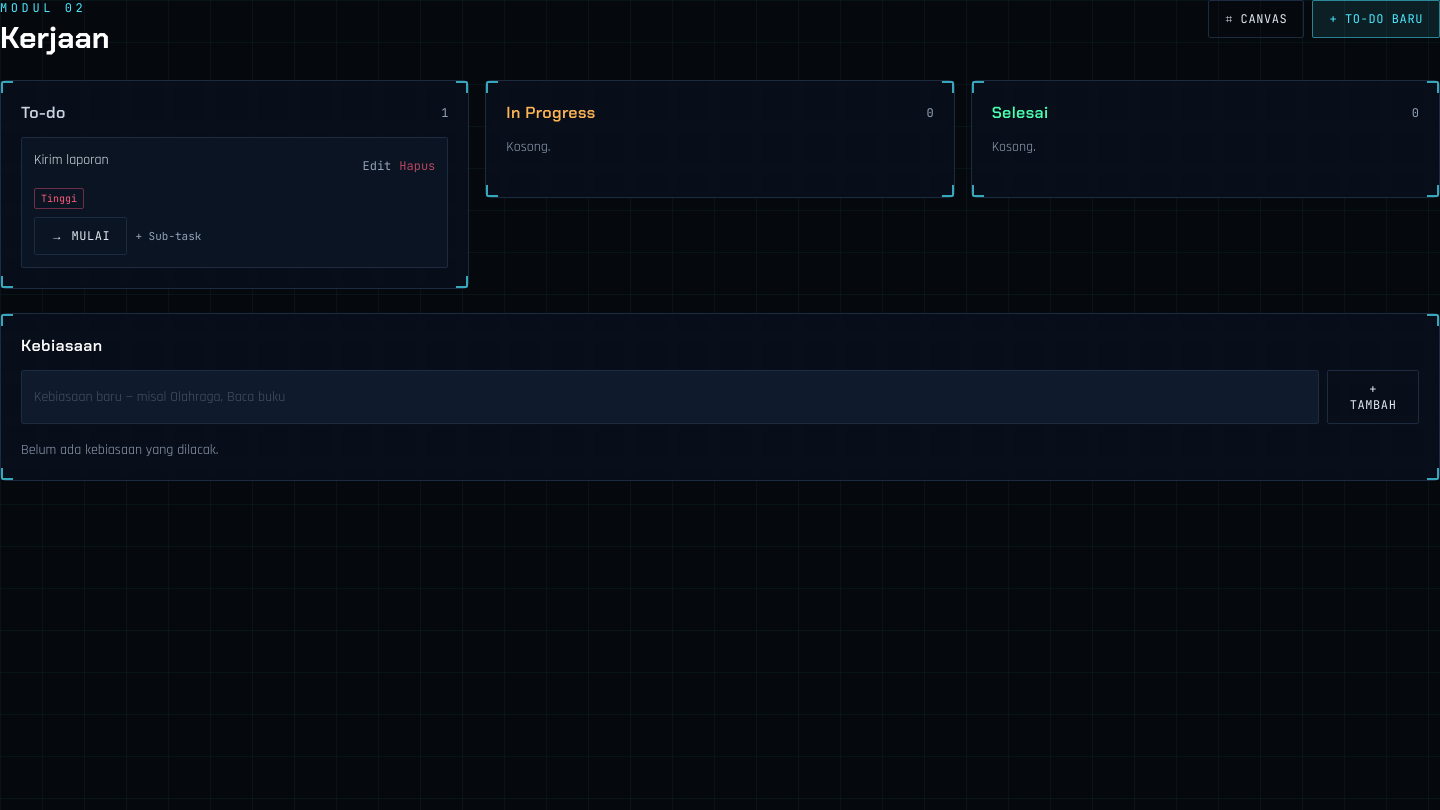
Scenario: KerjaanPage (Kanban) › edits an existing task's title
The width and height of the screenshot is (1440, 810).
Check: the text "Kirim laporan" is shown, box 34,150 -> 109,170
Click the button with aria-label "Edit to-do Kirim laporan" at (377,166), box 362,160 -> 391,172
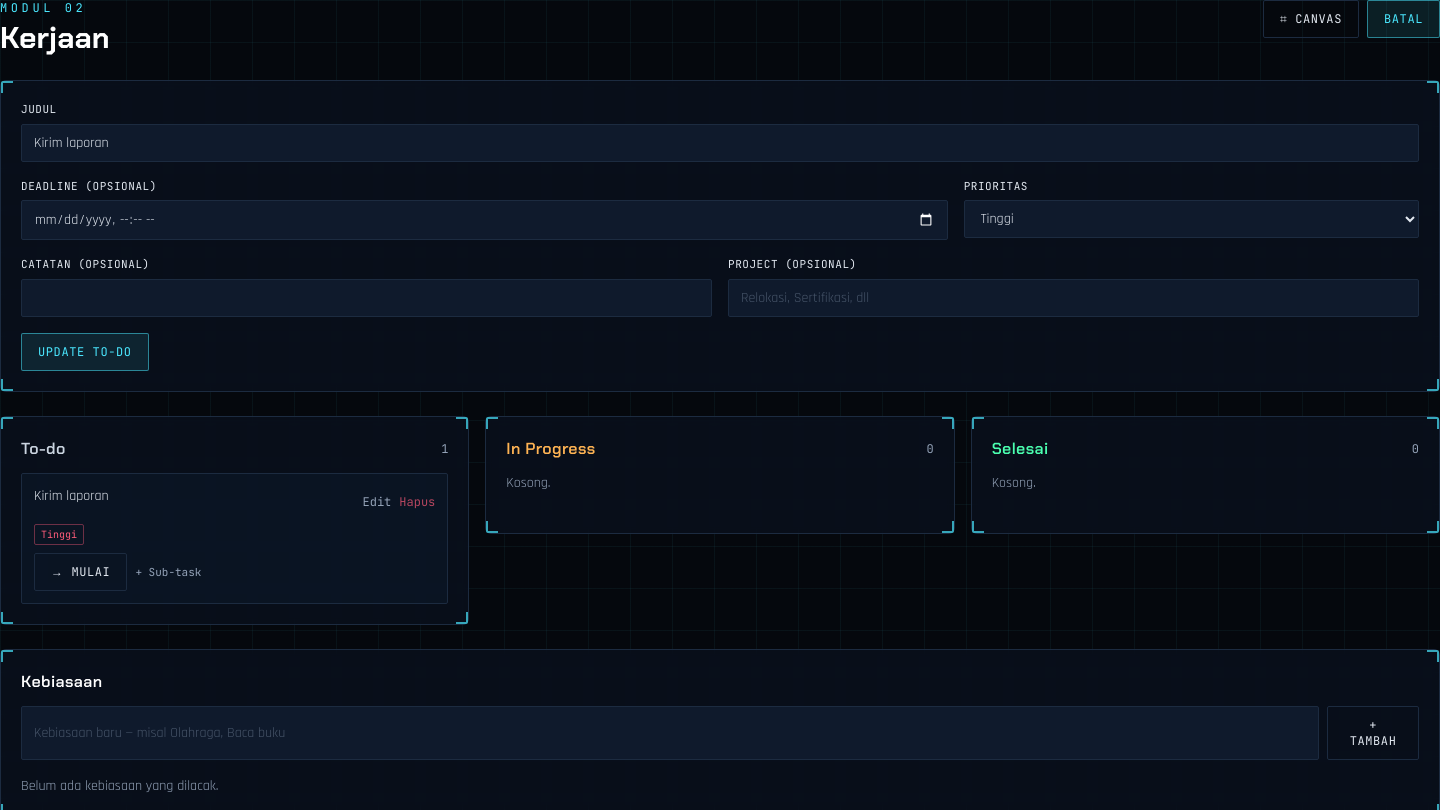
Replace the text in the field showing "Kirim laporan" with "Kirim laporan mingguan" at (720,142), box 21,124 -> 1419,162
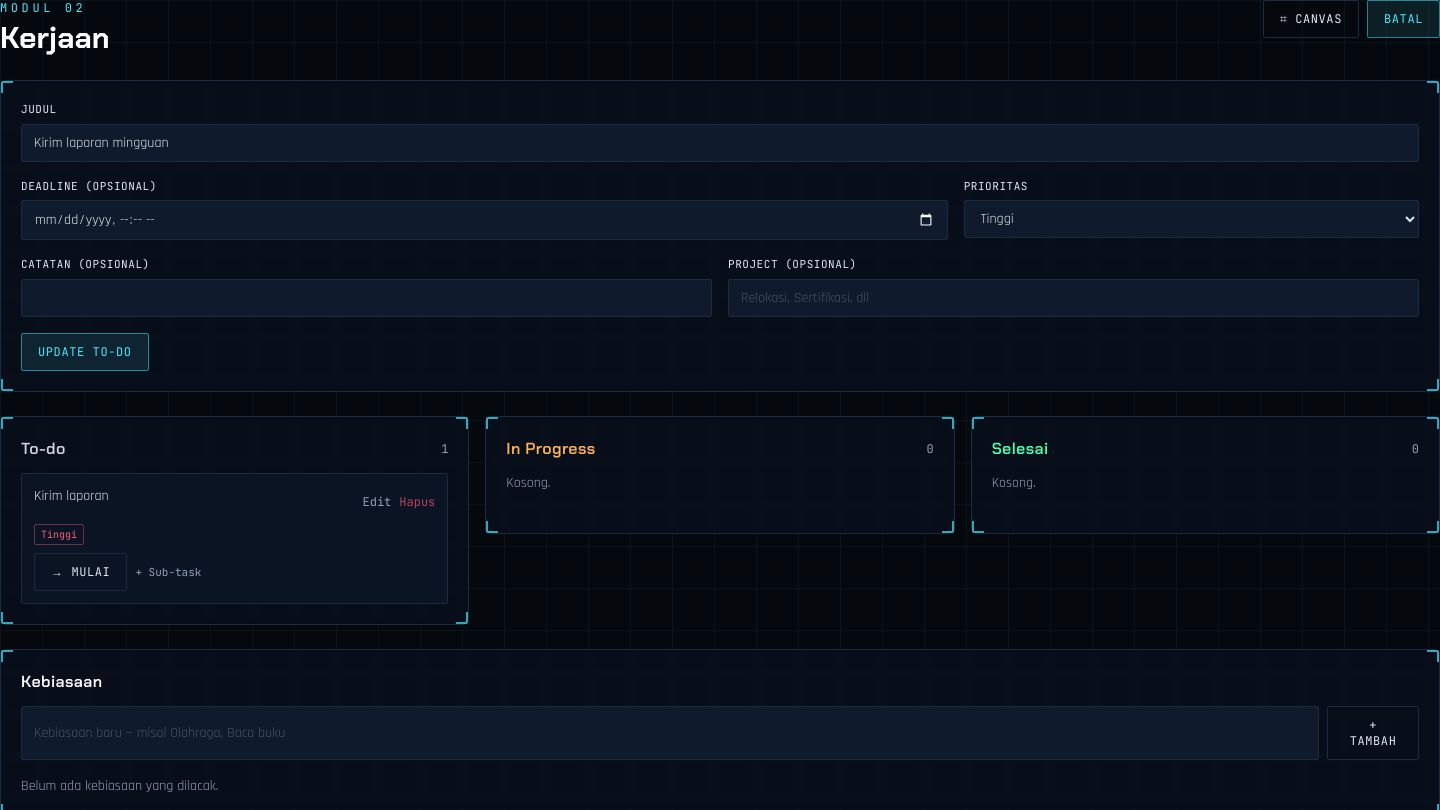
Click the button "Update To-do" at (85,352), box 21,332 -> 149,370
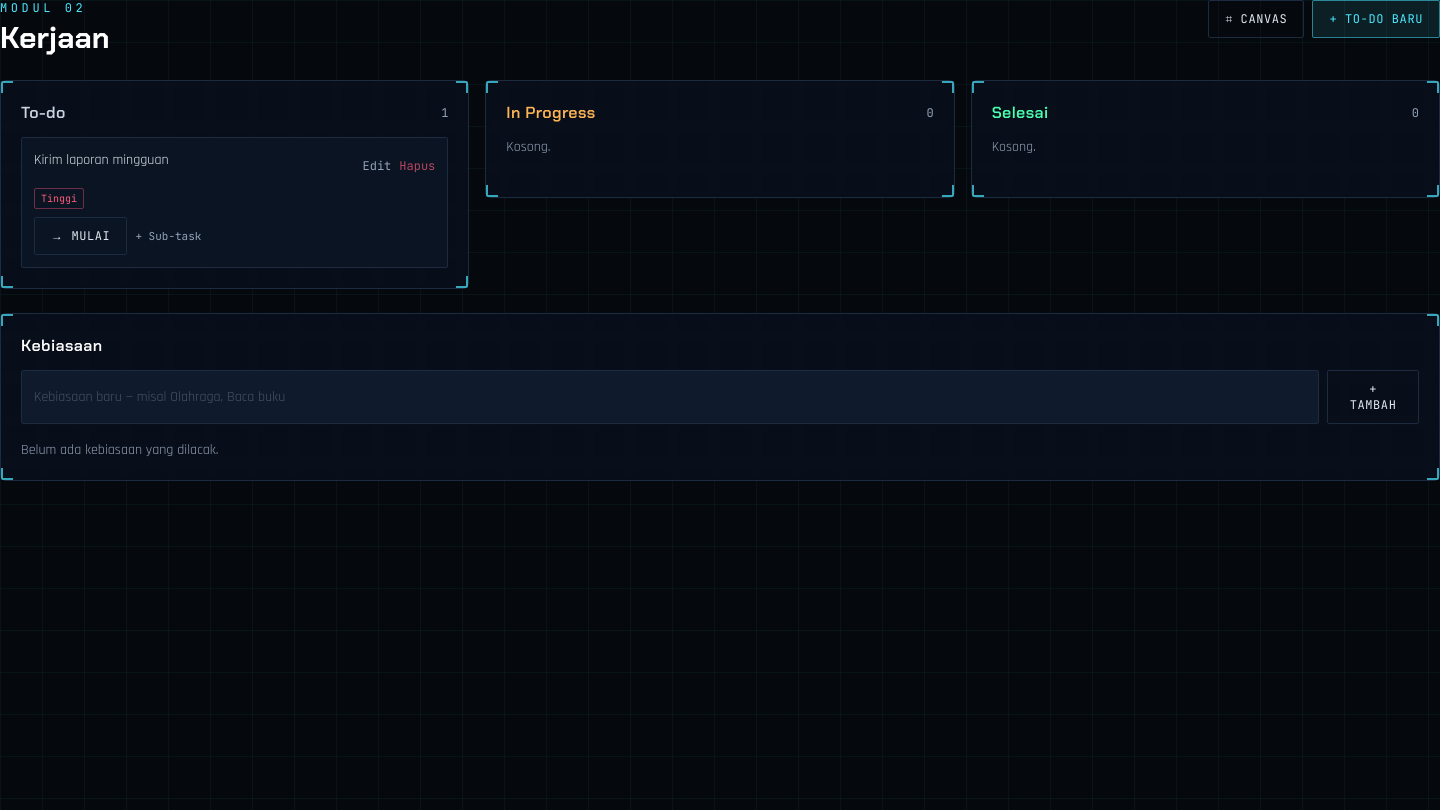
Check: the text "Kirim laporan mingguan" is shown, box 34,150 -> 169,170
